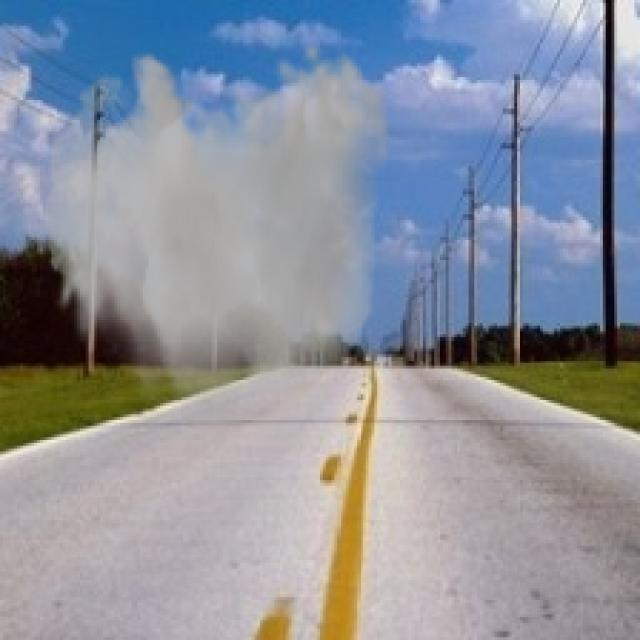Smoke: (46, 39, 392, 454)
